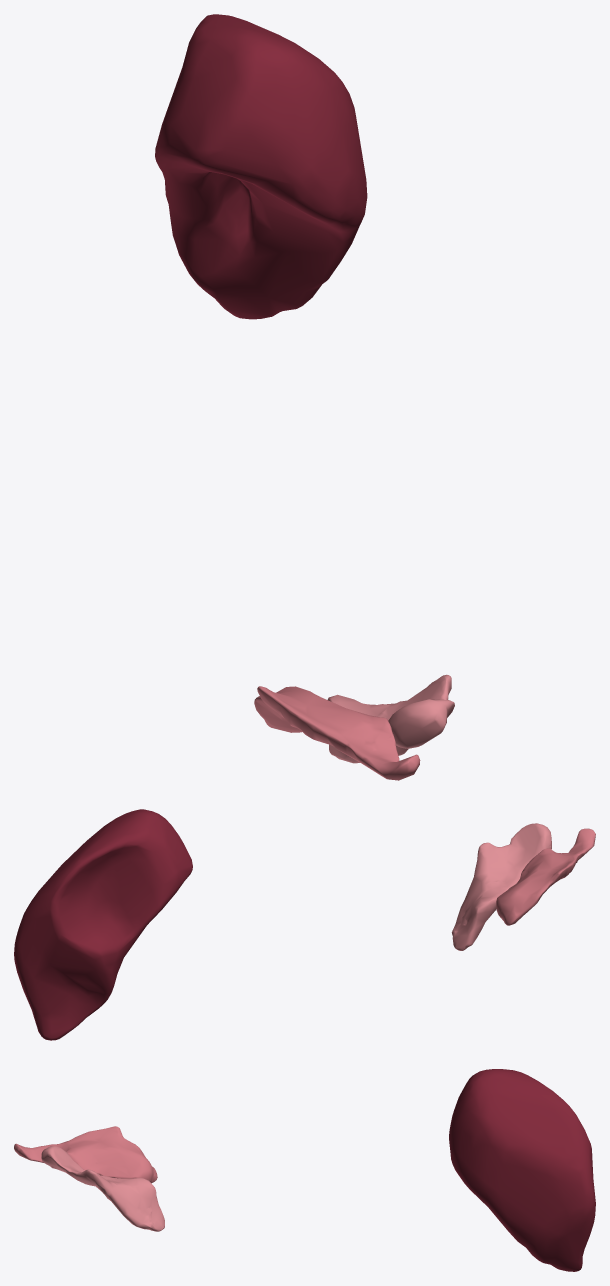
The model's file is lymphoid_organs_bodyparts3d_v4.glb.
3 renders of one model, top to bottom at view 1: azimuth 30°, elevation 25°; view 2: azimuth 150°, elevation 25°; view 3: azimuth 270°, elevation 25°, orthographic. The views are drawn at different scales.
Visible parts, largest first — view 1: BodyParts3D_spleen_FJ2561, BodyParts3D_thymus_right_lobe_FJ3151, BodyParts3D_thymus_left_lobe_FJ3150; view 2: BodyParts3D_spleen_FJ2561, BodyParts3D_thymus_left_lobe_FJ3150, BodyParts3D_thymus_right_lobe_FJ3151; view 3: BodyParts3D_spleen_FJ2561, BodyParts3D_thymus_right_lobe_FJ3151, BodyParts3D_thymus_left_lobe_FJ3150.
Part boxes in pixels (bbox=[...]): BodyParts3D_spleen_FJ2561: bbox=[155, 14, 367, 319]; BodyParts3D_thymus_right_lobe_FJ3151: bbox=[254, 686, 420, 780]; BodyParts3D_thymus_left_lobe_FJ3150: bbox=[327, 674, 454, 763]; BodyParts3D_spleen_FJ2561: bbox=[14, 809, 192, 1040]; BodyParts3D_thymus_left_lobe_FJ3150: bbox=[451, 823, 551, 950]; BodyParts3D_thymus_right_lobe_FJ3151: bbox=[496, 828, 595, 925]; BodyParts3D_spleen_FJ2561: bbox=[449, 1069, 595, 1271]; BodyParts3D_thymus_right_lobe_FJ3151: bbox=[14, 1126, 157, 1183]; BodyParts3D_thymus_left_lobe_FJ3150: bbox=[41, 1146, 164, 1231].
Size of the model in its own units: 139 by 113 by 278.
